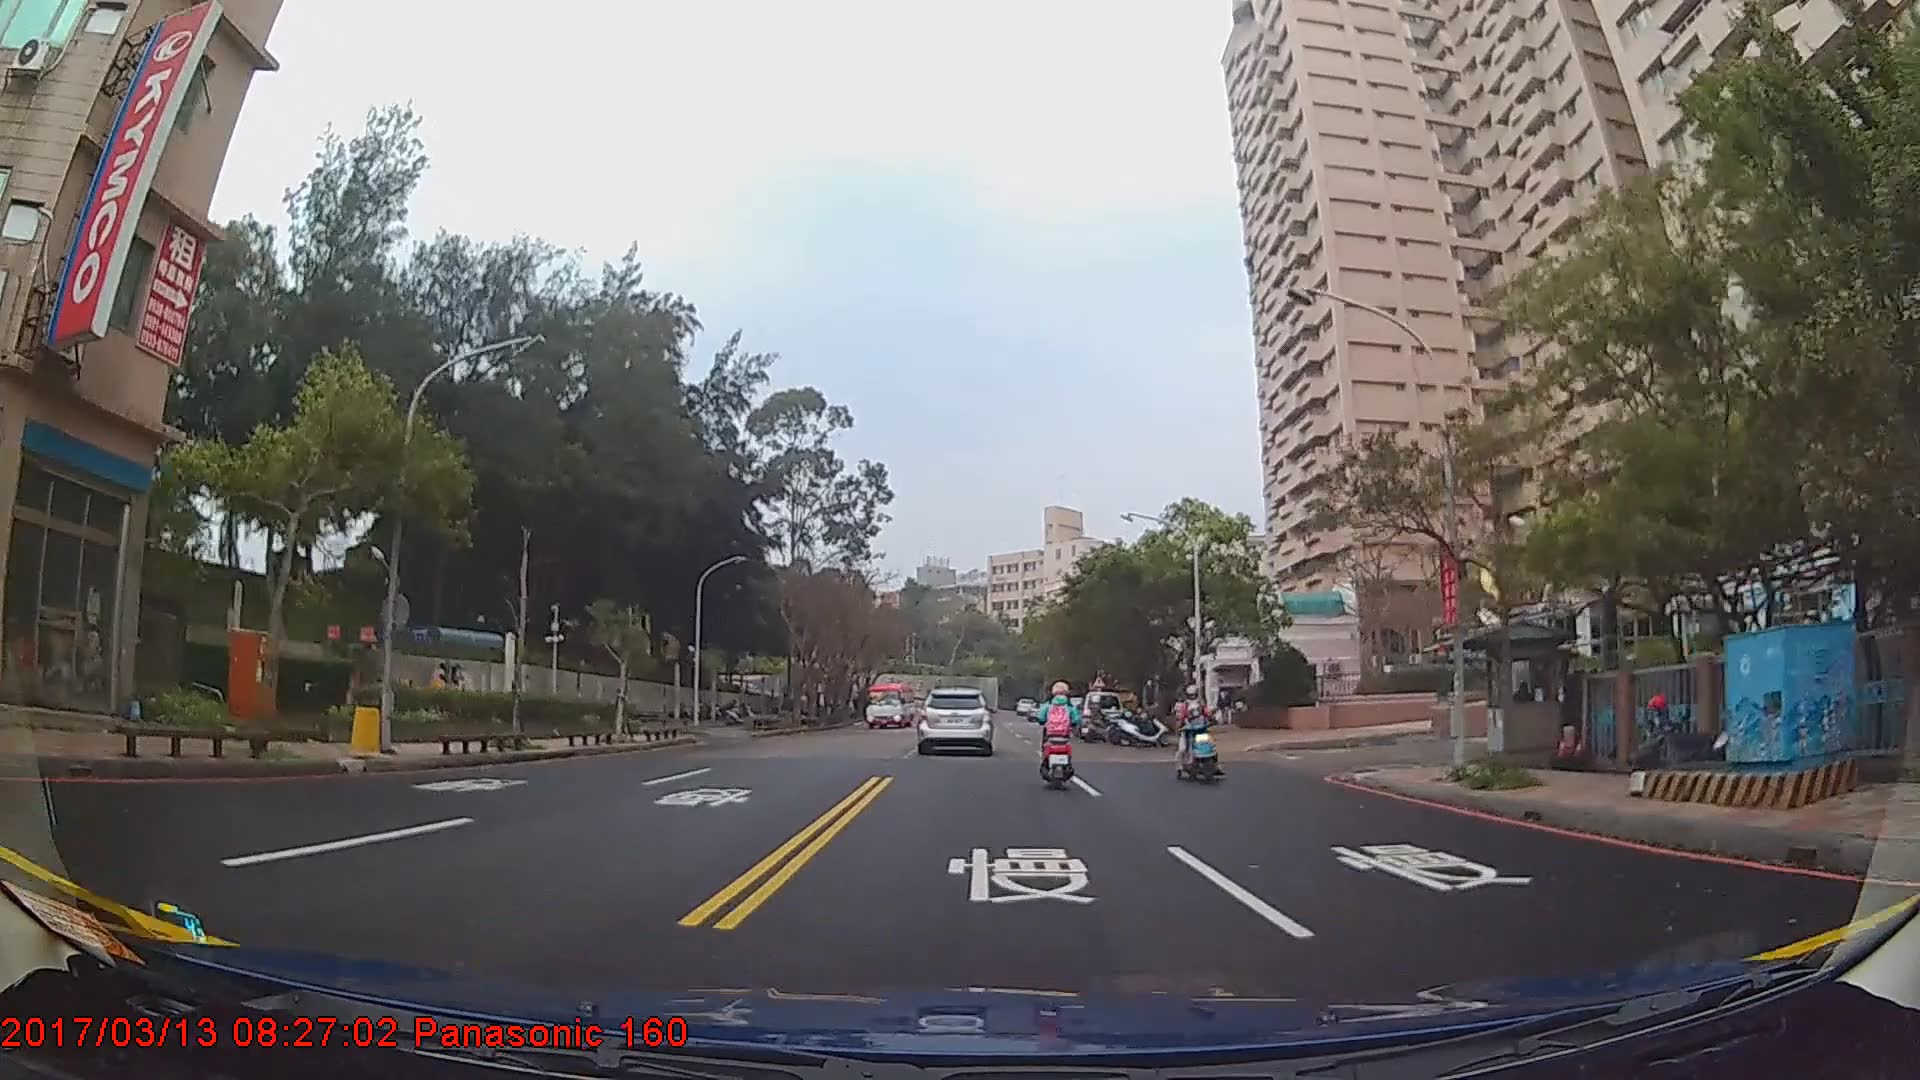rider: (1035, 671, 1079, 786), (1172, 681, 1219, 775), (1080, 692, 1115, 742)
vehicle: (915, 682, 992, 751), (865, 679, 918, 727), (1075, 689, 1123, 738)
